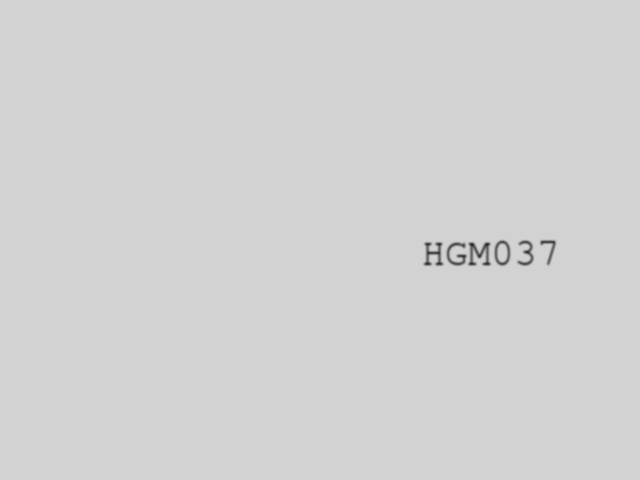OCR_AREA: (418, 237, 564, 269)
